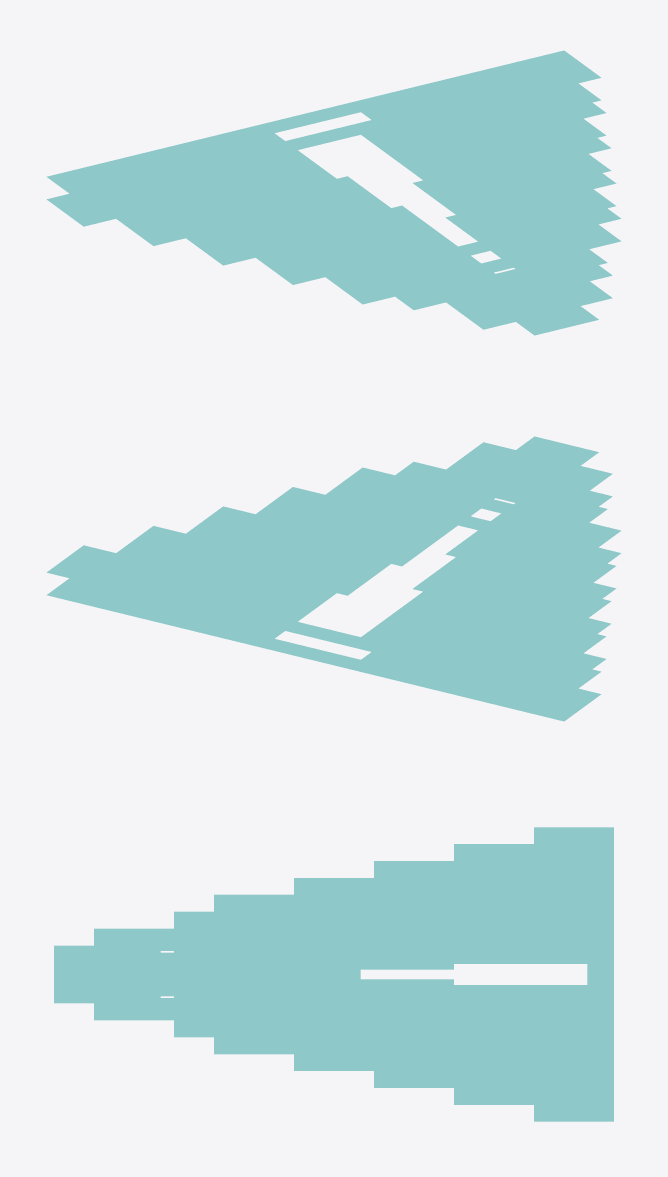
Rendered from T_WarningStun.fbx.
The picture shows the model from 3 angles, top to bottom: view 1: azimuth 30°, elevation 25°; view 2: azimuth 150°, elevation 25°; view 3: azimuth 270°, elevation 25°; orthographic projection. The views are drawn at different scales.
Parts seen in each view (by area): view 1: Untitled; view 2: Untitled; view 3: Untitled.
Part boxes in pixels (x1,y1,x2,y2): Untitled: (46, 50, 621, 335); Untitled: (46, 436, 621, 721); Untitled: (54, 827, 613, 1121).
Bounding box in the file's own units: 5.4 × 1 × 4.8.
